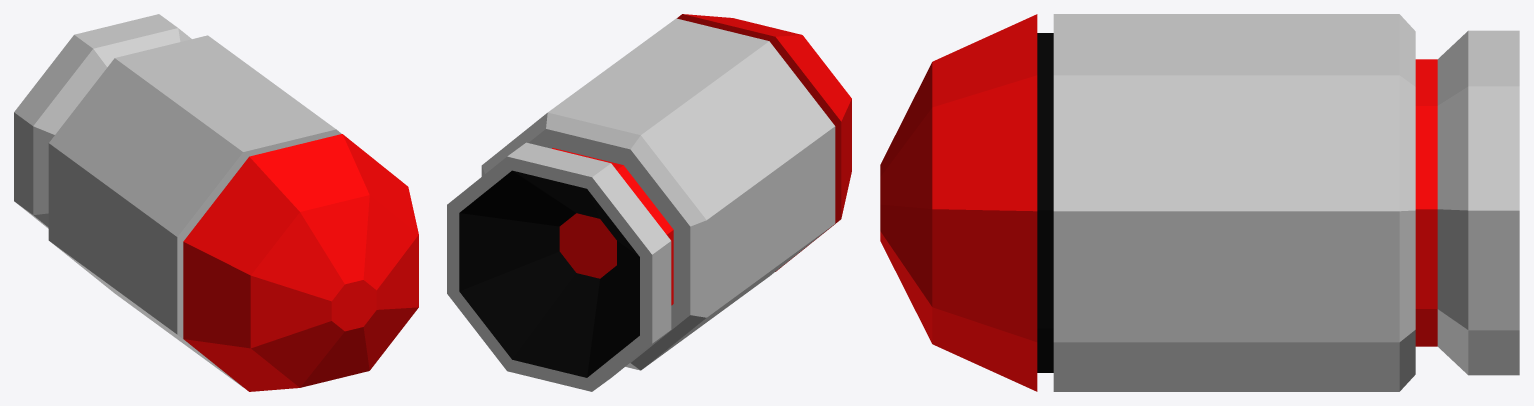
The model's file is EneMissile.fbx.
The picture shows the model from 3 angles, left to right: view 1: azimuth 30°, elevation 25°; view 2: azimuth 150°, elevation 25°; view 3: azimuth 270°, elevation 25°; orthographic projection. The views are drawn at different scales.
Visible parts, largest first — view 1: MisileMesh; view 2: MisileMesh; view 3: MisileMesh.
Boxes of the visible parts, x1,y1,x2,y2 form: MisileMesh: (14, 14, 418, 391); MisileMesh: (447, 14, 851, 391); MisileMesh: (880, 14, 1519, 391).
Bounding box in the file's own units: 112 × 112 × 204.
